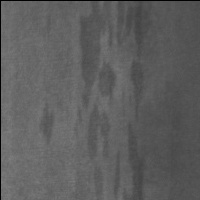inclusion: (74, 2, 146, 128), (112, 120, 149, 200), (84, 104, 111, 200), (38, 94, 57, 146)
